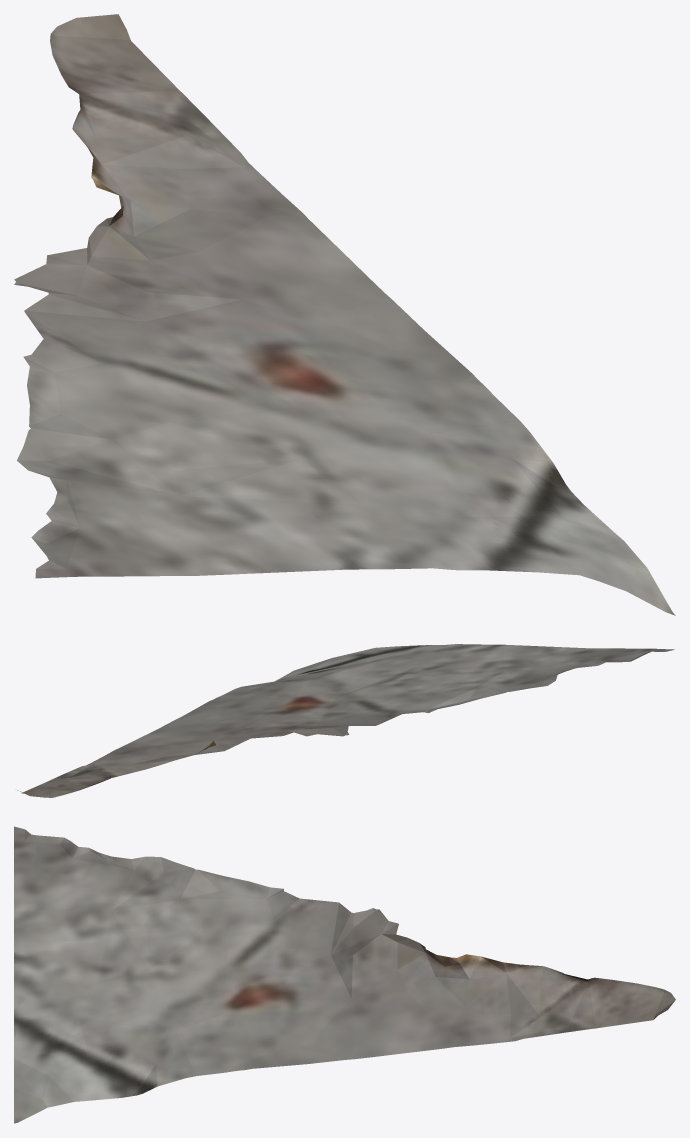
3 views of the same model, one above another, from view 1: azimuth 30°, elevation 25°; view 2: azimuth 150°, elevation 25°; view 3: azimuth 270°, elevation 25° (orthographic). The views are drawn at different scales.
Size of the model in its own units: 0.3914 by 0.1131 by 0.597.
1 material, 1 textured.
